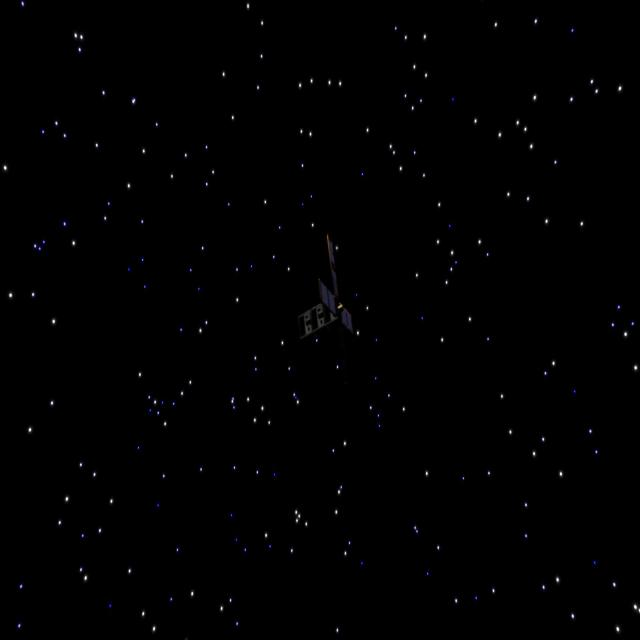satellite: (296, 231, 370, 354)
